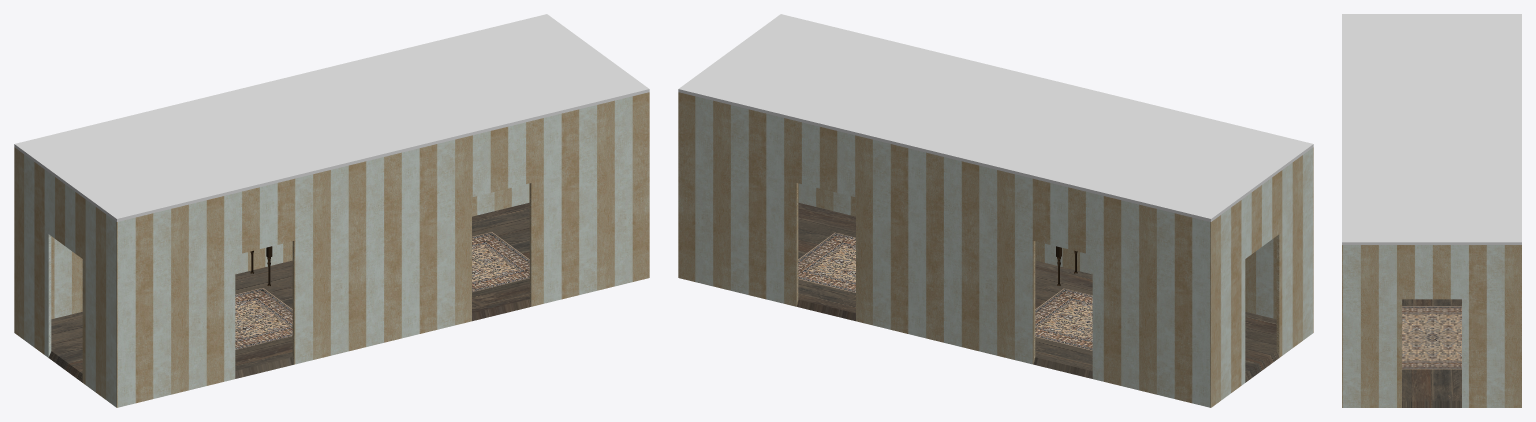
File: corridor.glb
The picture shows the model from 3 angles, left to right: view 1: azimuth 30°, elevation 25°; view 2: azimuth 150°, elevation 25°; view 3: azimuth 270°, elevation 25°; orthographic projection. The views are drawn at different scales.
Visible parts, largest first — view 1: Plane, ceiling, Rug; view 2: Plane, ceiling, Rug; view 3: ceiling, Plane, Rug.
Part boxes in pixels (x1,y1,x2,y2): Plane: (14, 92, 649, 407); ceiling: (14, 14, 649, 221); Rug: (235, 232, 529, 349); Plane: (678, 92, 1313, 407); ceiling: (678, 14, 1313, 221); Rug: (798, 232, 1092, 350); ceiling: (1342, 14, 1521, 244); Plane: (1342, 245, 1521, 407); Rug: (1402, 306, 1461, 369).
Bounding box in the file's own units: 9 × 3.05 × 3.
8 materials, 3 textured.
